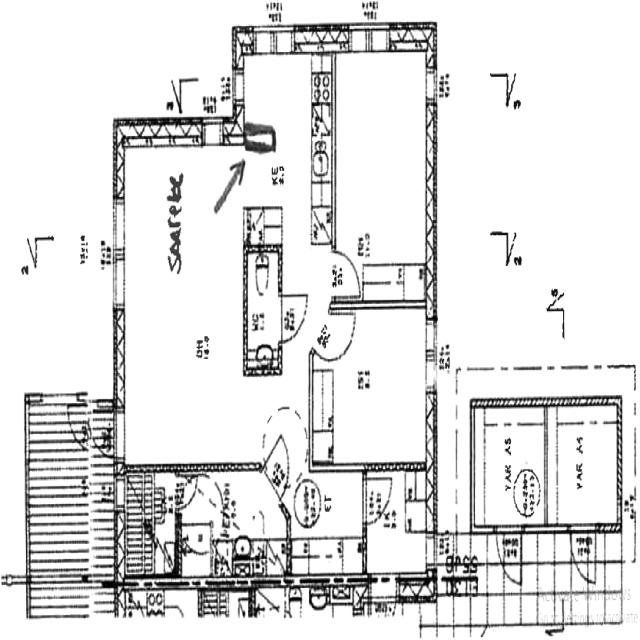door: (326, 304, 358, 363), (362, 470, 394, 526), (330, 247, 363, 300), (280, 290, 309, 343), (66, 404, 91, 453), (499, 529, 522, 581), (500, 556, 522, 586), (572, 555, 590, 584)
window: (110, 190, 128, 314), (424, 316, 439, 396)
zone: (332, 45, 432, 296), (316, 304, 435, 468), (239, 52, 333, 251), (178, 469, 291, 579), (474, 411, 546, 528), (289, 467, 366, 575), (550, 411, 620, 529), (364, 466, 433, 576), (120, 466, 178, 576), (244, 245, 283, 372), (331, 248, 363, 300)
